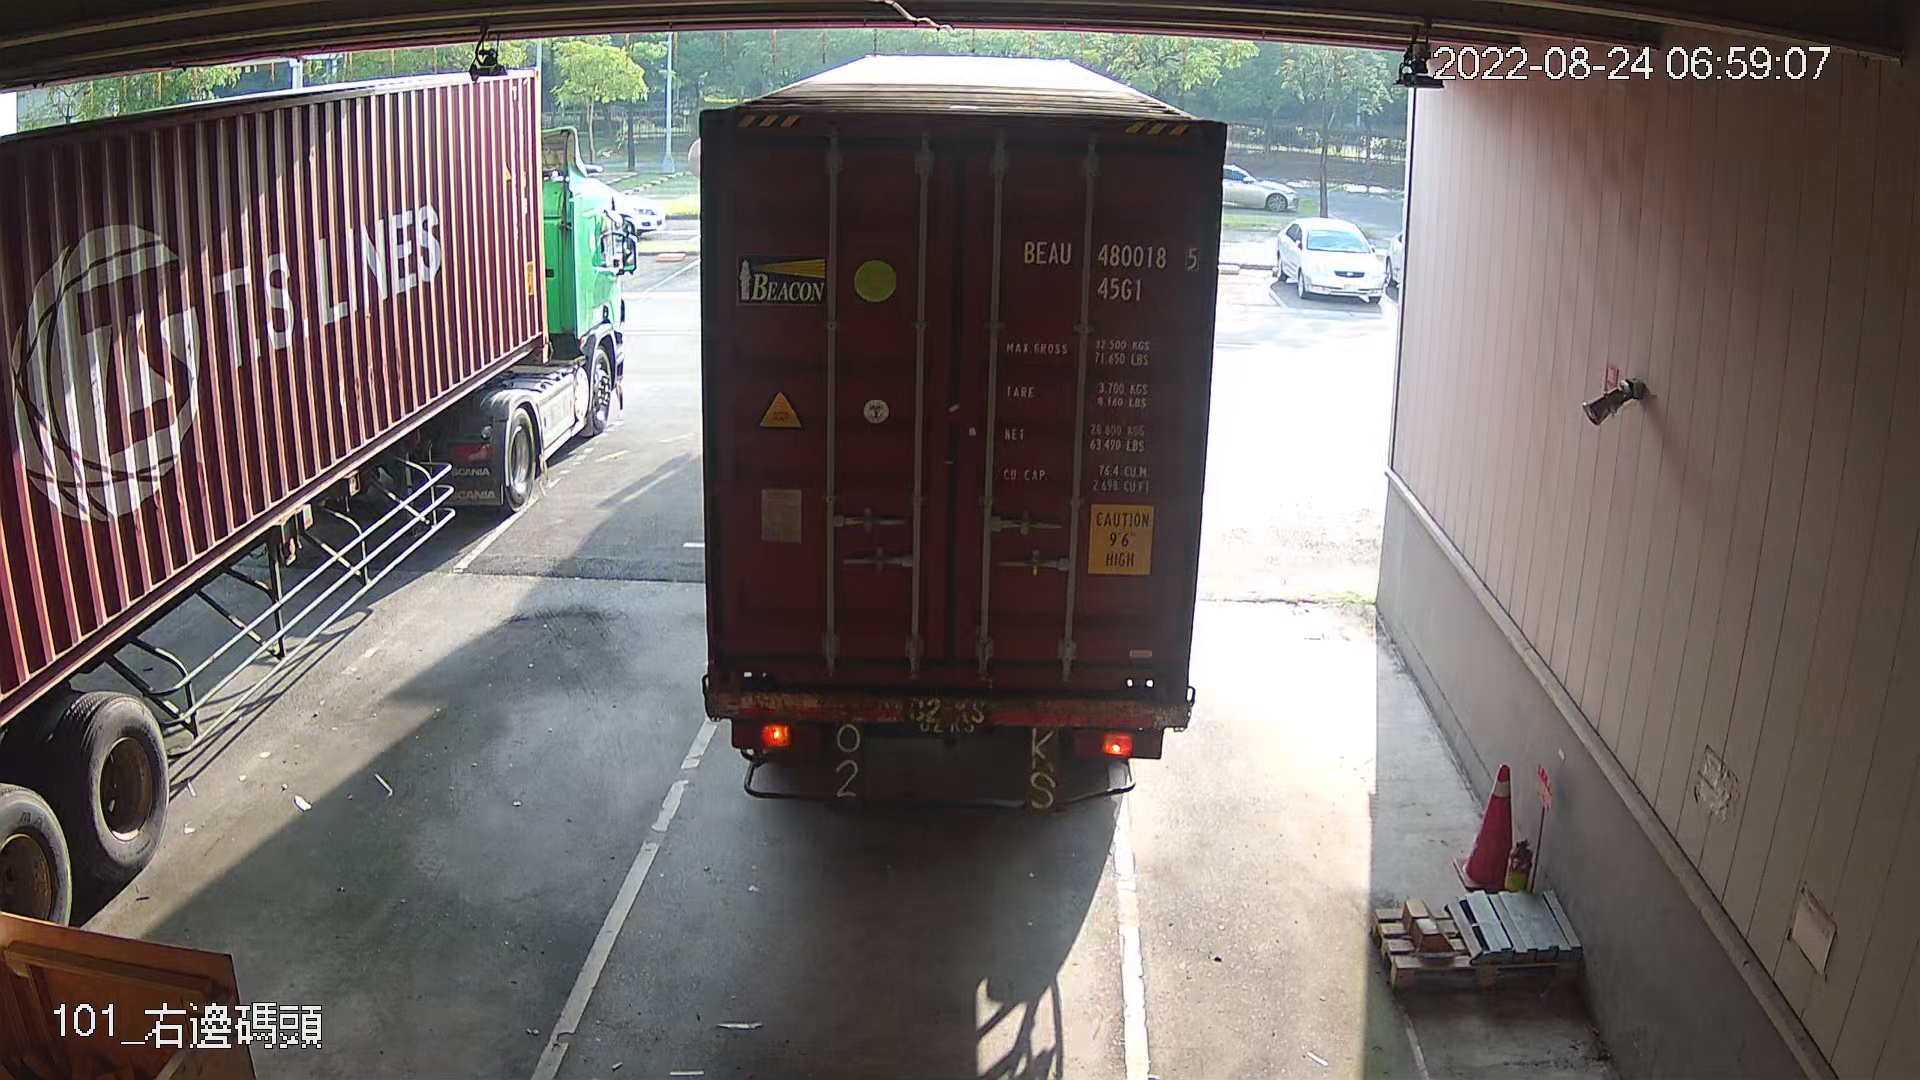container: (1015, 225, 1204, 310)
